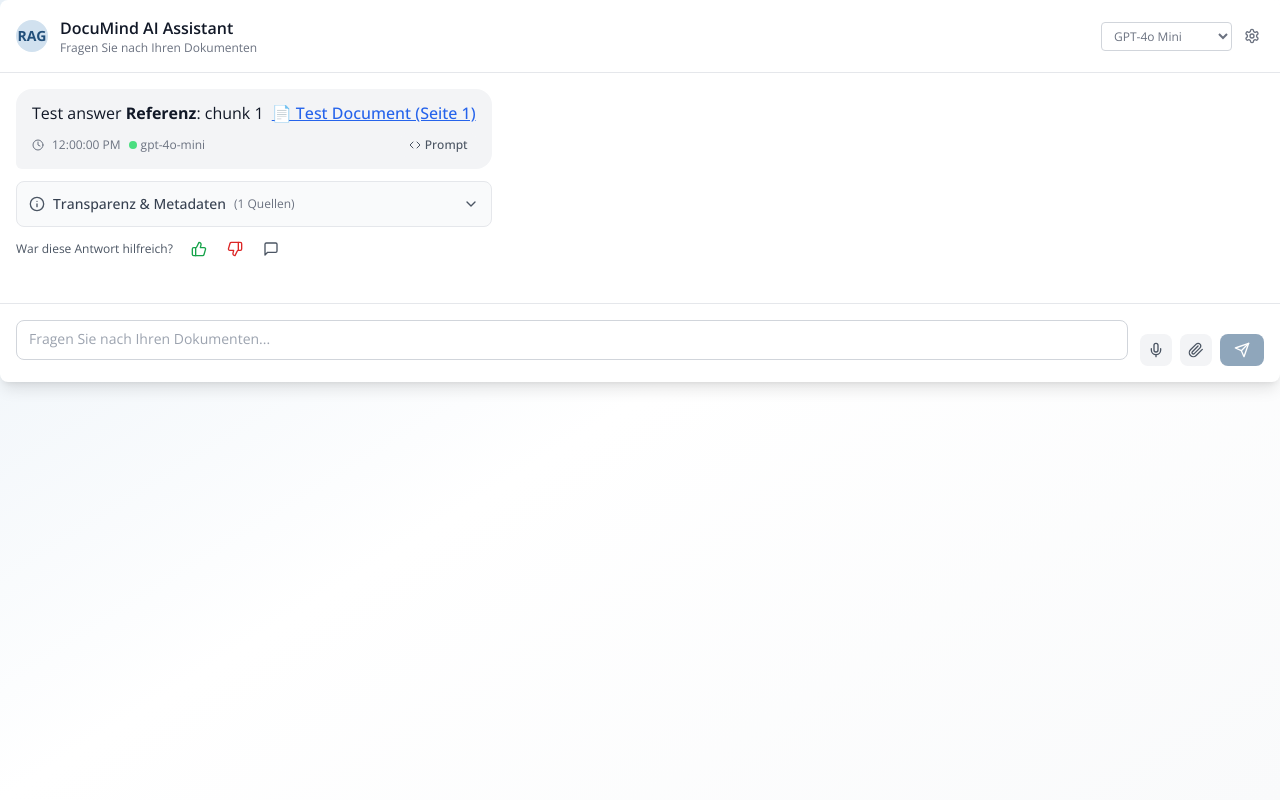
Test: RAGChat - Text-Highlighting › should highlight query words in text_excerpt in source reference
Expected: the text "Test answer Referenz: chunk 1 📄 Test Document (Seite 1)" is shown, left=32, top=101, right=476, bottom=125
Öffne den Transparency Layer
Click the button "Transparenz & Metadaten (1 Quellen)" at (254, 204), box left=17, top=182, right=491, bottom=226
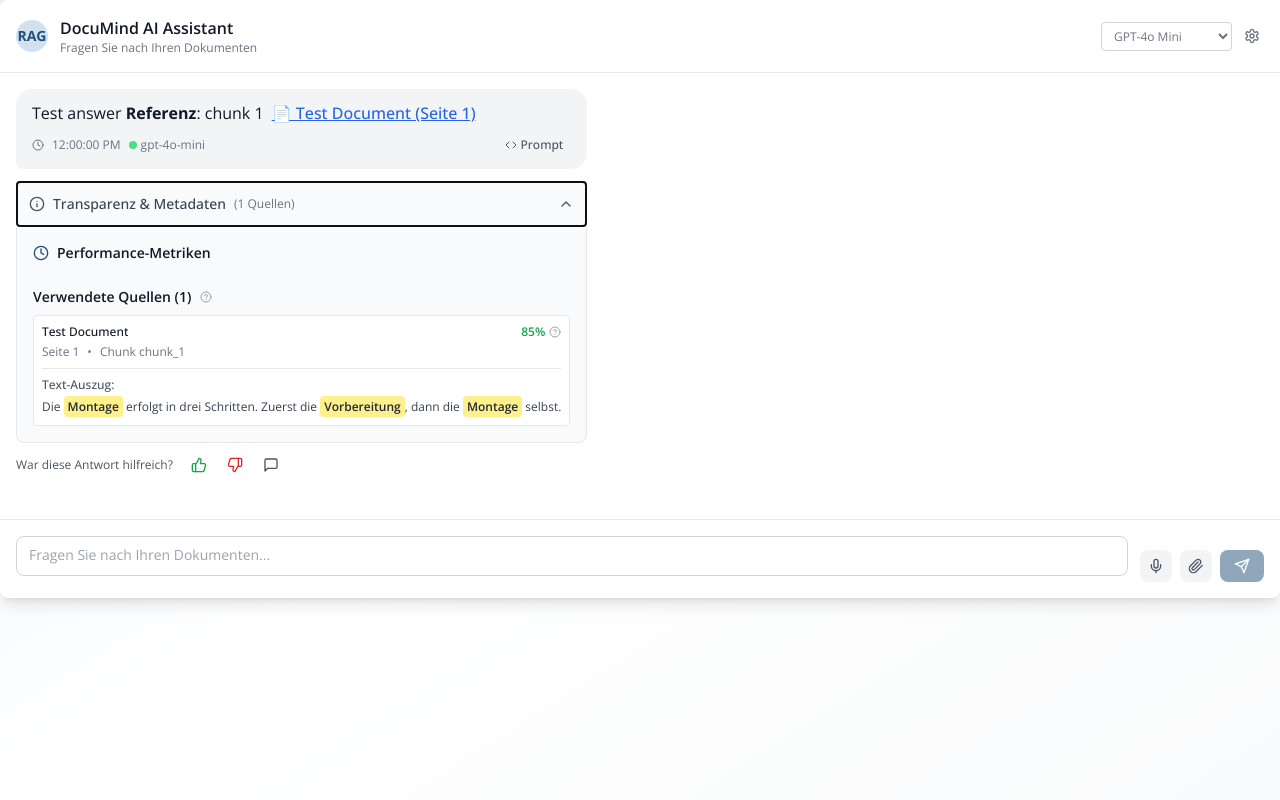
Now the heading "Verwendete Quellen (1)" is shown, box left=33, top=287, right=212, bottom=306
Now the 1st text "Montage" is shown, box left=64, top=396, right=123, bottom=417
